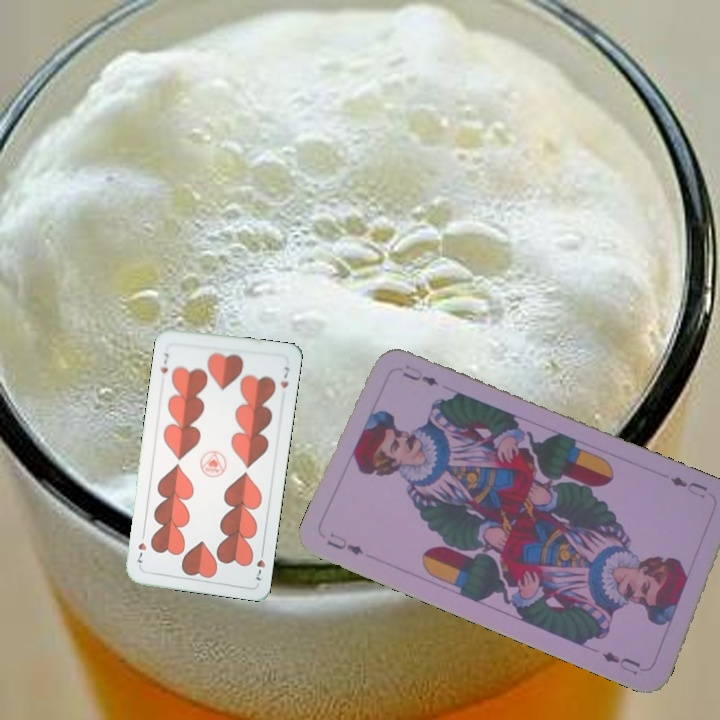EU: (666, 472, 710, 501), (322, 529, 366, 558)
H7: (252, 544, 268, 583), (156, 349, 171, 376)
